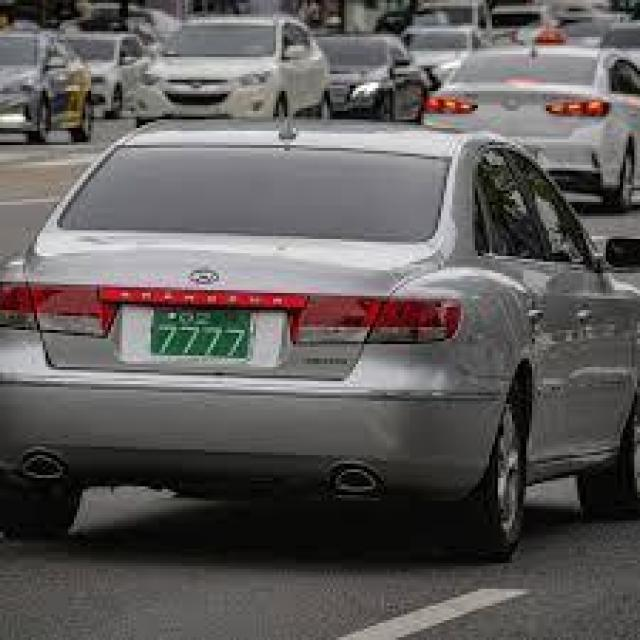car: (0, 110, 640, 564)
illegal_plate: (145, 305, 268, 370)
